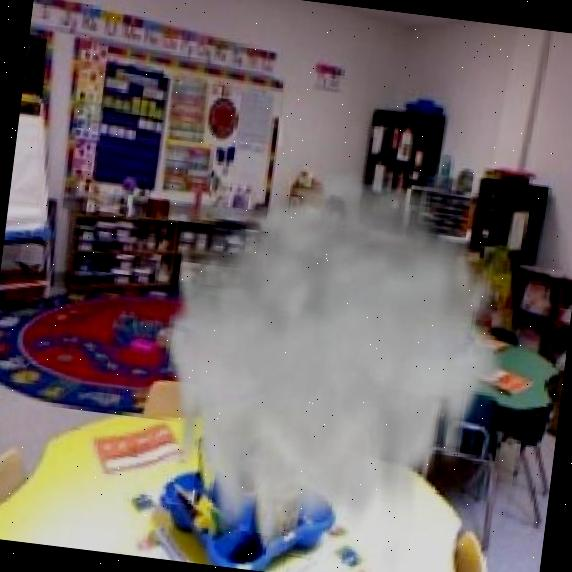smoke: (136, 177, 511, 570)
